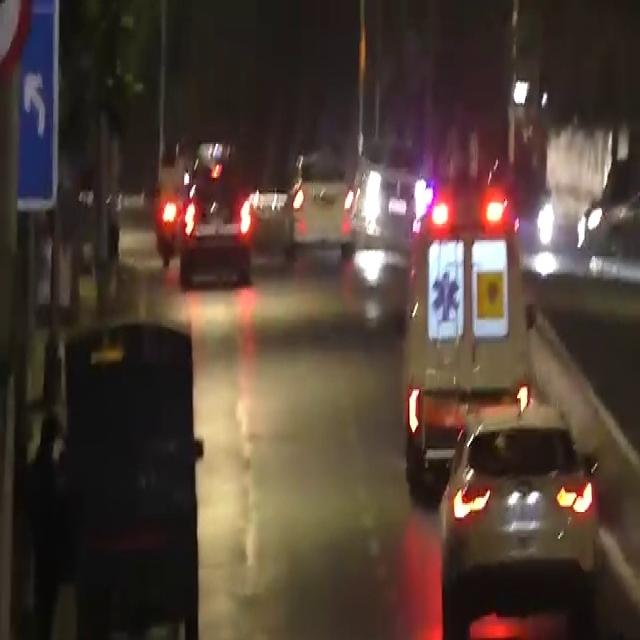ambulance: (392, 204, 576, 431)
